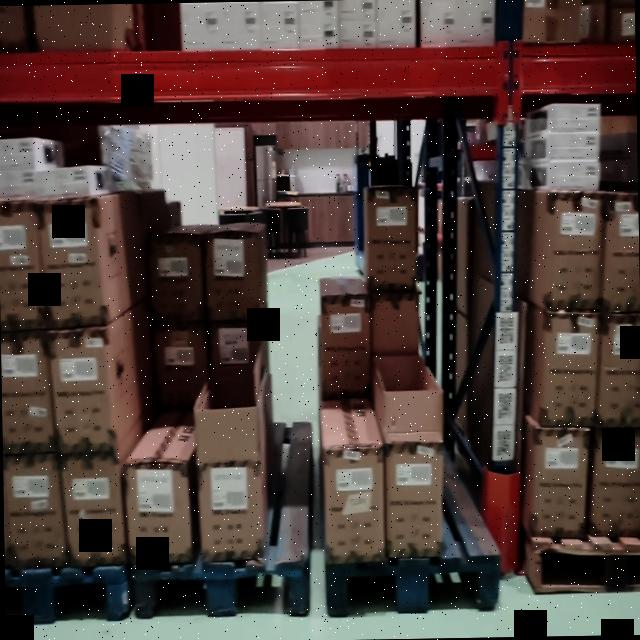box: (124, 462, 194, 560), (387, 443, 442, 558), (327, 448, 381, 558), (197, 458, 260, 551), (322, 294, 372, 396), (367, 194, 418, 289), (205, 236, 262, 318), (148, 240, 203, 316)
